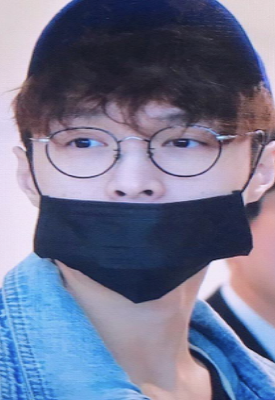mask_weared_incorrect: (31, 107, 255, 304)
